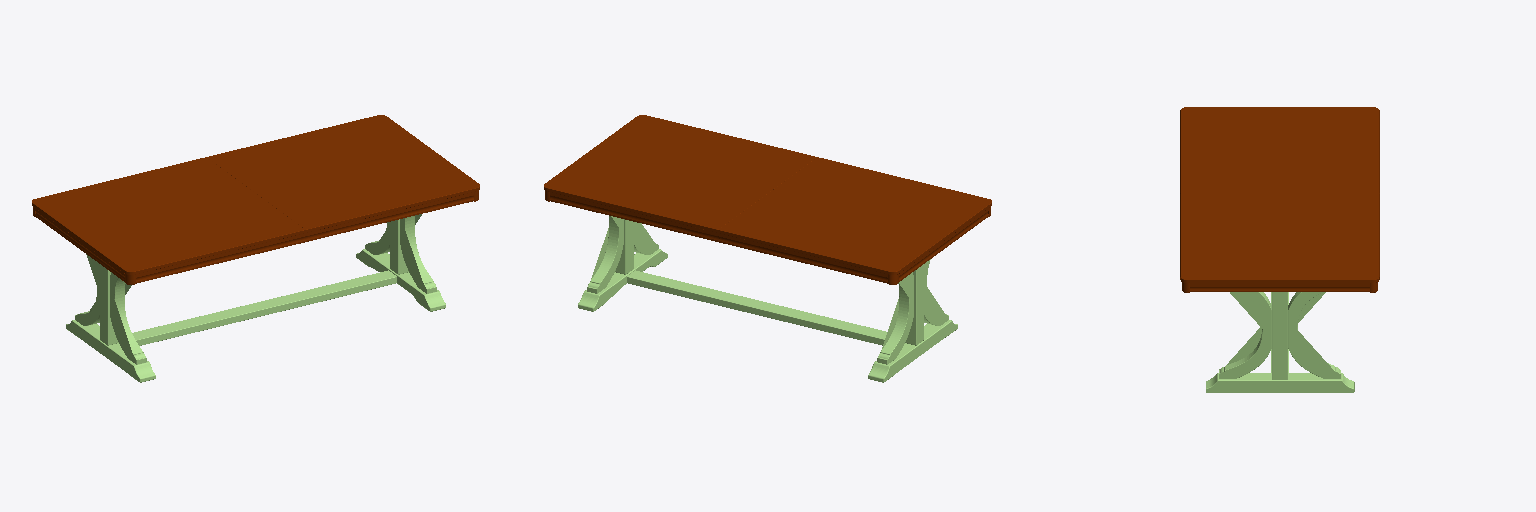
The model's file is TIMLESS-sq-220-2019-obj.obj.
3 renders of one model, left to right at view 1: azimuth 30°, elevation 25°; view 2: azimuth 150°, elevation 25°; view 3: azimuth 270°, elevation 25°, orthographic.
Parts seen in each view (by area): view 1: TIMLESS_sq_220_001, TIMLESS_sq_220_002; view 2: TIMLESS_sq_220_001, TIMLESS_sq_220_002; view 3: TIMLESS_sq_220_001, TIMLESS_sq_220_002.
Boxes of the visible parts, x1,y1,x2,y2 form: TIMLESS_sq_220_001: [32, 115, 479, 284]; TIMLESS_sq_220_002: [66, 214, 445, 382]; TIMLESS_sq_220_001: [544, 115, 991, 284]; TIMLESS_sq_220_002: [578, 216, 957, 382]; TIMLESS_sq_220_001: [1180, 107, 1379, 292]; TIMLESS_sq_220_002: [1206, 292, 1354, 392].
Bounding box in the file's own units: 2200 × 742 × 1069.